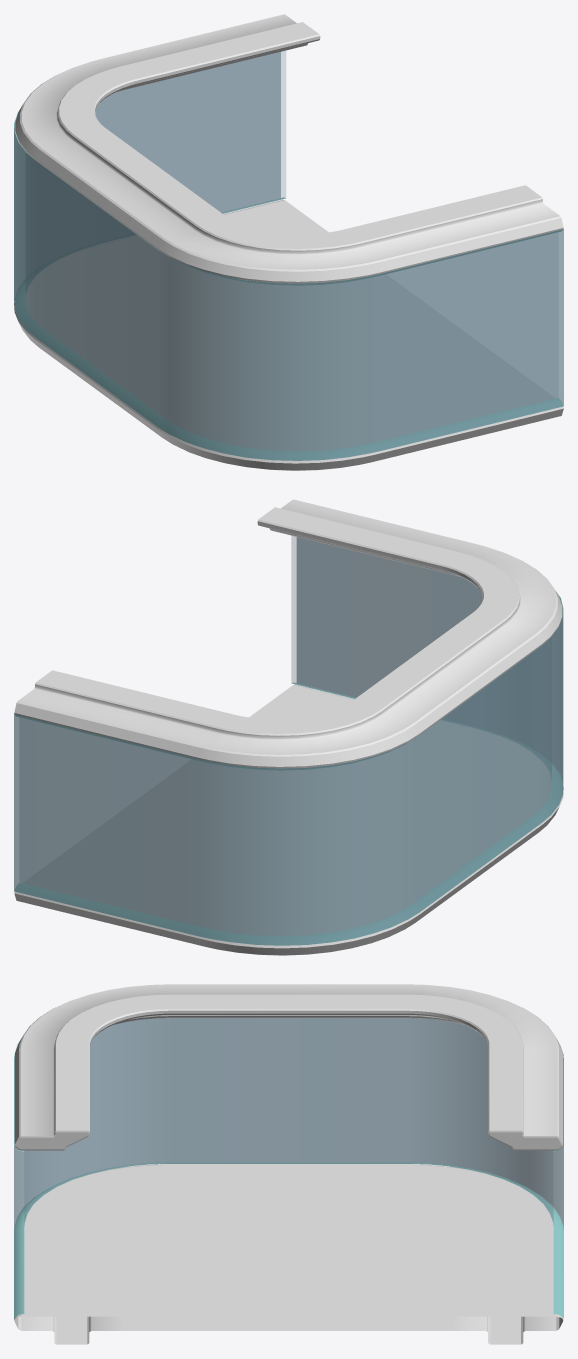
Rendered from Chatterbox-Half-Long.fbx.
3 renders of one model, top to bottom at view 1: azimuth 30°, elevation 25°; view 2: azimuth 150°, elevation 25°; view 3: azimuth 270°, elevation 25°, orthographic. The views are drawn at different scales.
Parts seen in each view (by area): view 1: Base; view 2: Base; view 3: Base.
Part boxes in pixels (box(x1,y1,x2,y2)): Base: box(14, 14, 563, 470); Base: box(14, 499, 563, 955); Base: box(14, 984, 563, 1344).
Size of the model in its own units: 461 by 297 by 693.
